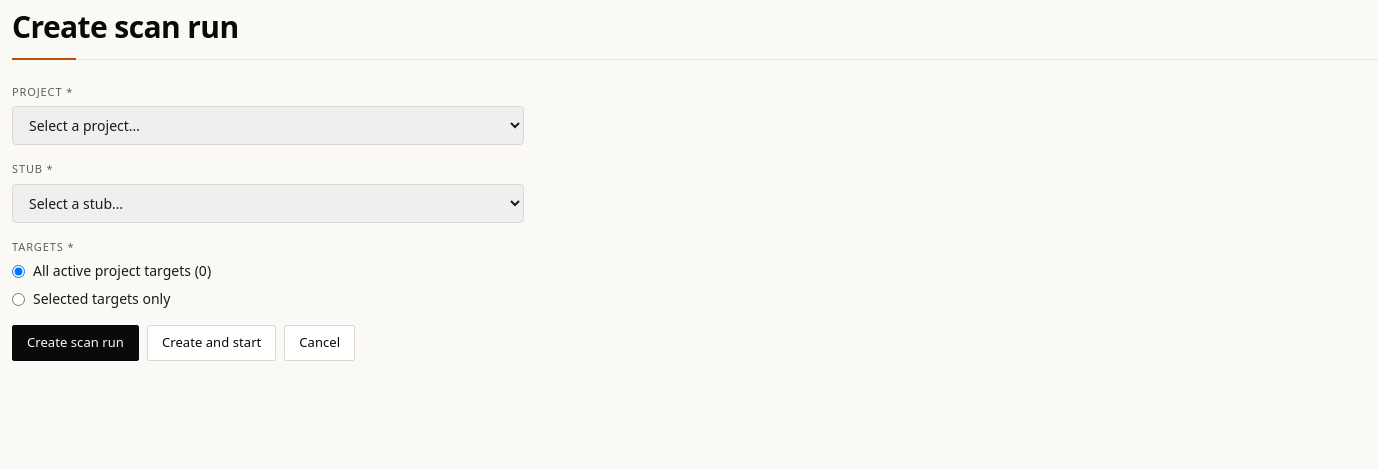
Test: CreateScanRun — validation › falls back to a generic start error when the start-leg failure isn't a detail kind
Select "Local Lab" in the dropdown labelled "Project *" at (268, 126), box [12,106,524,145]
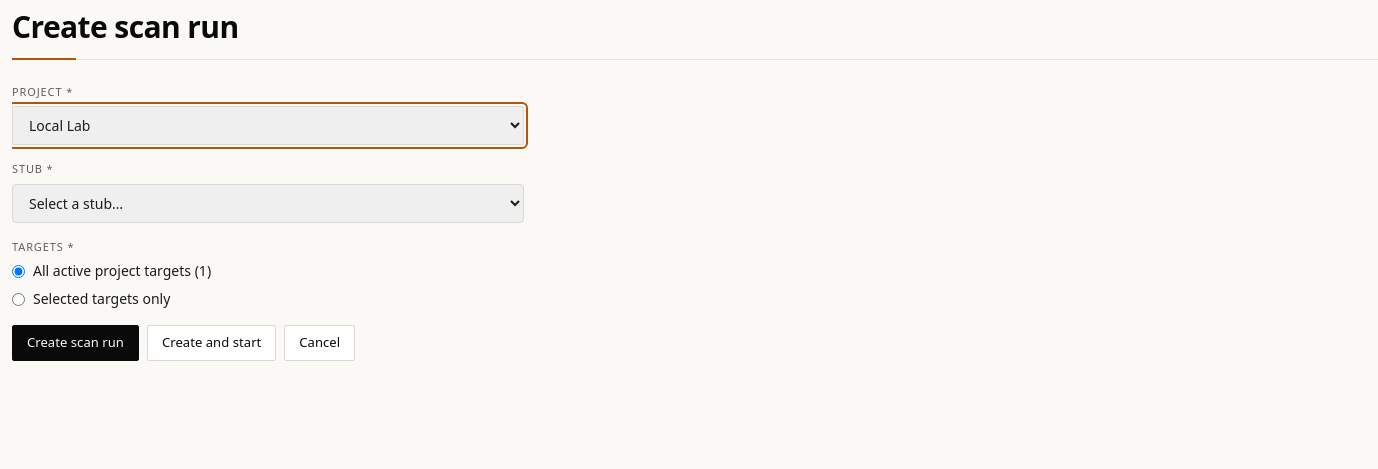
Select "1.1 · Framework detection" in the dropdown labelled "Stub *" at (268, 203), box [12,184,524,222]
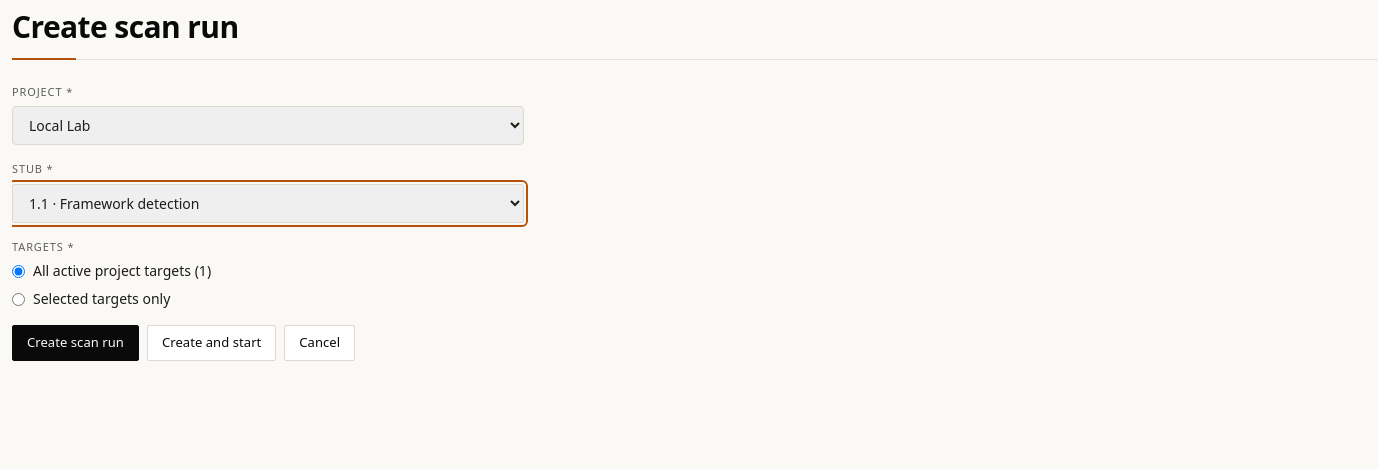
Click the button "Create and start" at (212, 343), box [147,325,276,361]
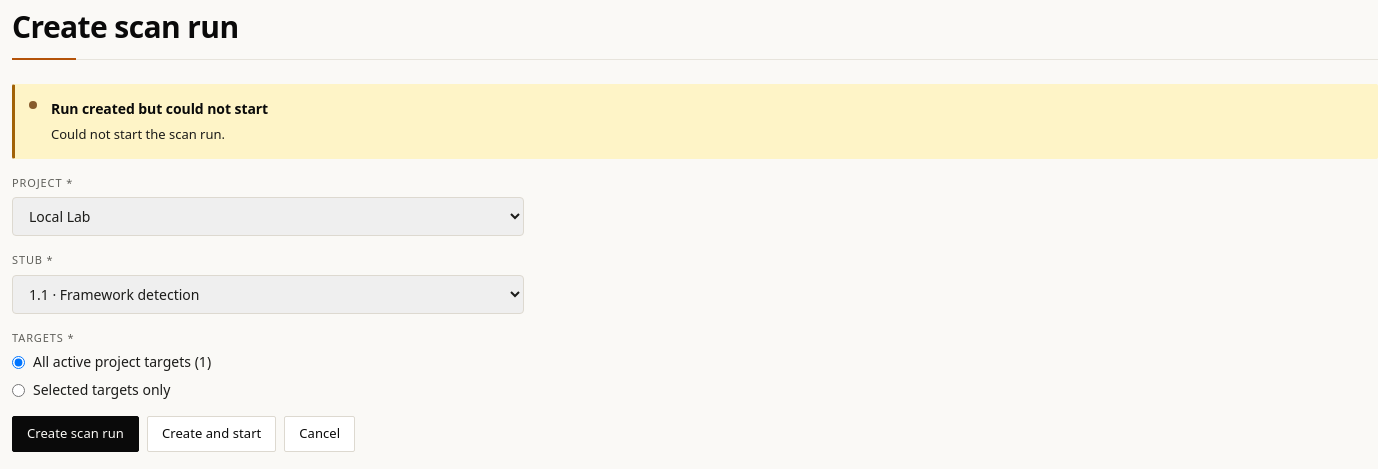
Check: the text "Could not start the scan run." is shown, box [51,125,225,143]
